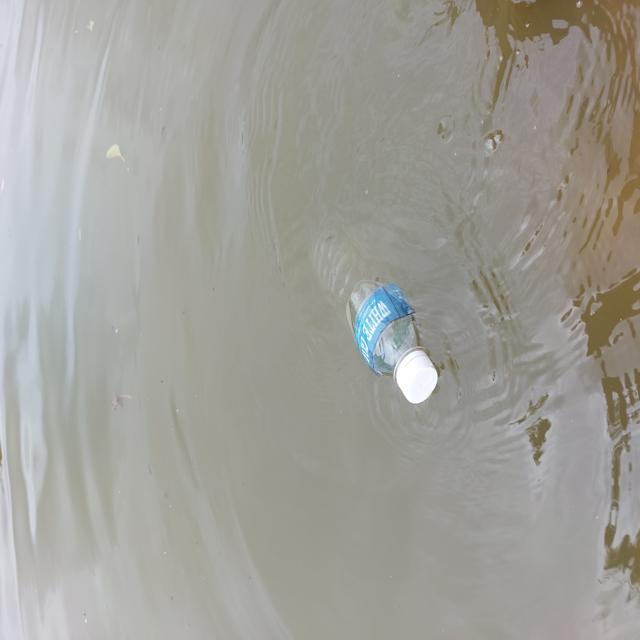waterbottle: (304, 215, 460, 424)
